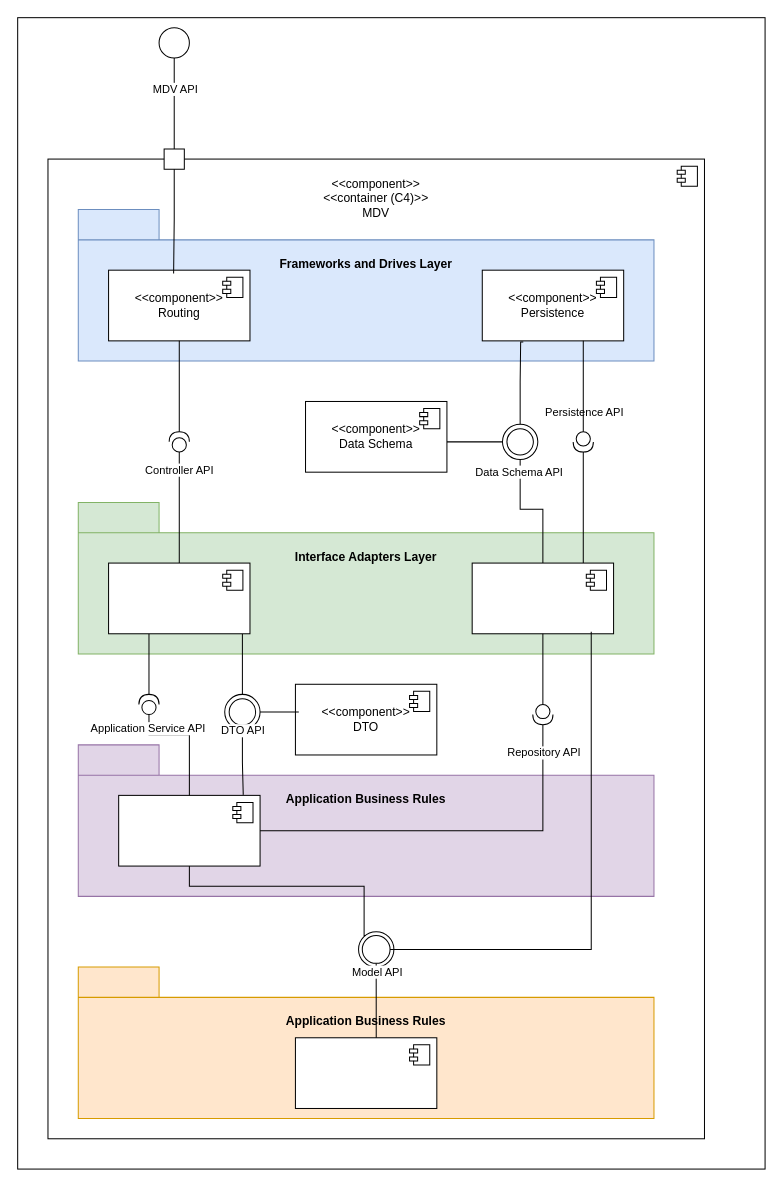
This 783x1187 diagram has some shape labels left out. Each missing label, with the centre of its shape:
"<<component>> Application Service" goes at point 189,830.
"<<component>> Controller" goes at point 179,598.
"<<component>> Domain Model (DDD)" goes at point 365,1072.
"<<component>> Repository" goes at point 542,598.
